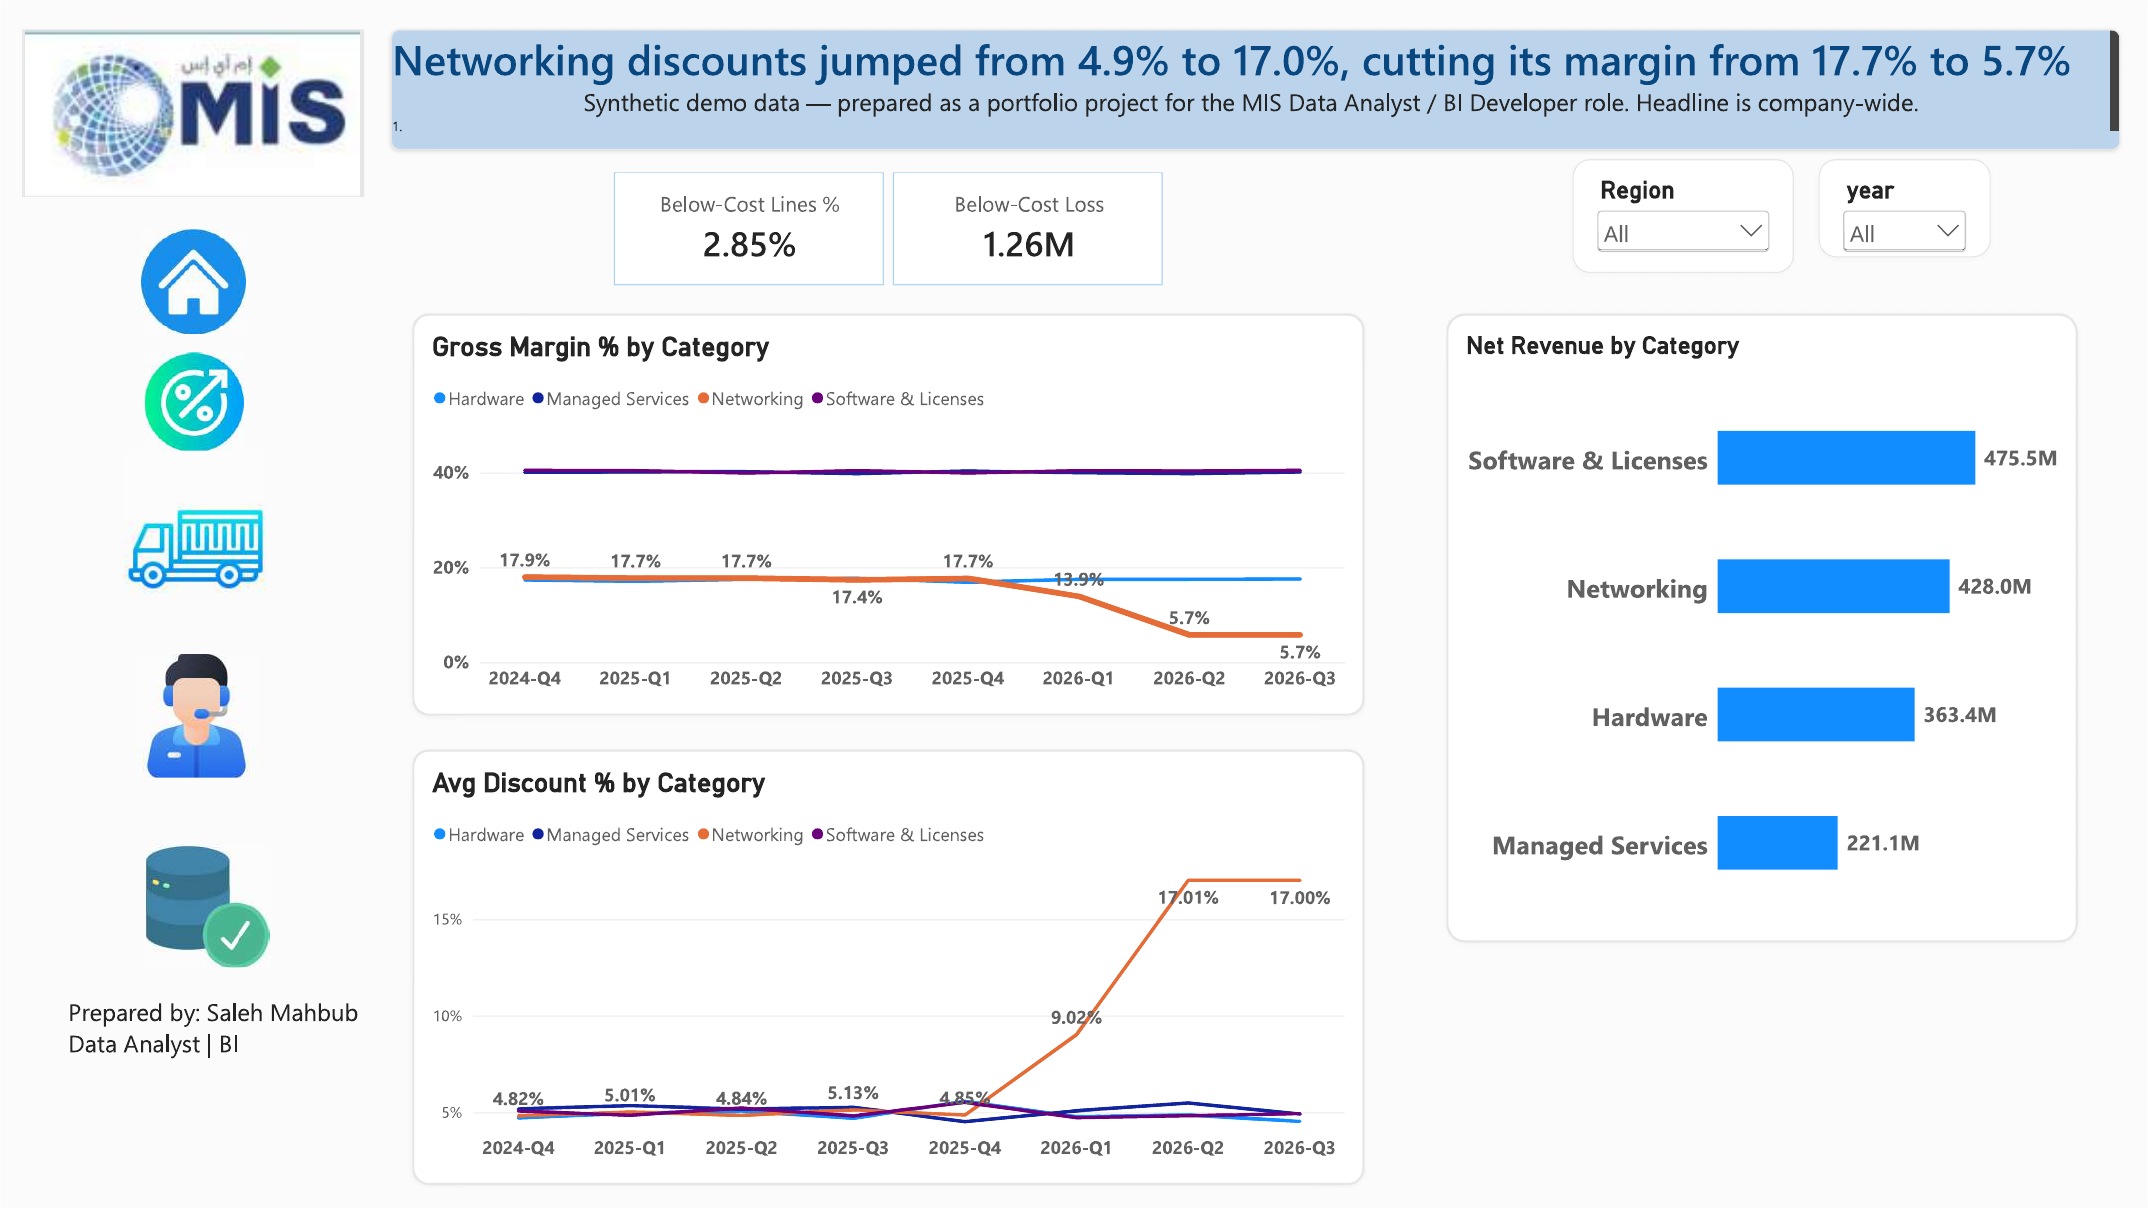

This screenshot's page, from the dashboard's own definition file:
{"tool":"powerbi","page":{"name":"Sales & Margin","canvas":[1920,1080],"ordinal":1},"visuals":[{"type":"slicer","fields":{"Values":["dim_region.region_name_en"]},"box":[1406,142,198,102],"z":0},{"type":"slicer","fields":{"Values":["dim_date.year"]},"box":[1626,142,154,88],"z":1000},{"type":"textbox","box":[348.7,25.5,1547.7,108.4],"z":2000},{"type":"image","box":[19.1,25.5,306.1,150.9],"z":3000},{"type":"lineChart","title":"Avg Discount % by Category","fields":{"Category":["dim_date.year_quarter"],"Series":["dim_category.category_name"],"Y":["_Measures.Avg Discount %"]},"box":[367.5,670,852.5,390],"z":4000},{"type":"lineChart","title":"Gross Margin % by Category","fields":{"Category":["dim_date.year_quarter"],"Series":["dim_category.category_name"],"Y":["_Measures.Gross Margin %"]},"box":[367.5,280,852.5,360],"z":5000},{"type":"cardVisual","fields":{"Data":["_Measures.Below-Cost Lines %","_Measures.Below-Cost Loss"]},"box":[547.5,152.5,492.5,102.5],"z":6000},{"type":"clusteredBarChart","title":"Net Revenue by Category","fields":{"Category":["dim_category.category_name"],"Y":["_Measures.Net Revenue"]},"box":[1292.5,280,565,562.5],"z":7000},{"type":"image","box":[100,205,145,92.5],"z":8000},{"type":"image","box":[107.5,315,130,87.5],"z":9000},{"type":"image","box":[97.5,402.5,150,127.5],"z":10000},{"type":"image","box":[110,585,130,110],"z":11000},{"type":"image","box":[130,730,110,160],"z":11001},{"type":"textbox","box":[60,890,307.5,92.5],"z":11002}]}

Visuals, with their boxes in screenshot pixels (x1, y1, x2, y2), scaled from the page's 1920x1080 canvas onto the 2148x1208 screenshot:
slicer - dim_region.region_name_en: rect(1573, 159, 1794, 273)
slicer - dim_date.year: rect(1819, 159, 1991, 257)
textbox: rect(390, 29, 2122, 150)
image: rect(21, 29, 364, 197)
"Avg Discount % by Category" lineChart: rect(411, 749, 1365, 1186)
"Gross Margin % by Category" lineChart: rect(411, 313, 1365, 716)
cardVisual - _Measures.Below-Cost Lines % x _Measures.Below-Cost Loss: rect(613, 171, 1164, 285)
"Net Revenue by Category" clusteredBarChart: rect(1446, 313, 2078, 942)
image: rect(112, 229, 274, 333)
image: rect(120, 352, 266, 450)
image: rect(109, 450, 277, 593)
image: rect(123, 654, 268, 777)
image: rect(145, 817, 268, 995)
textbox: rect(67, 995, 411, 1099)
